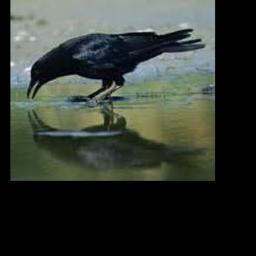Crow: (26, 27, 206, 103)
